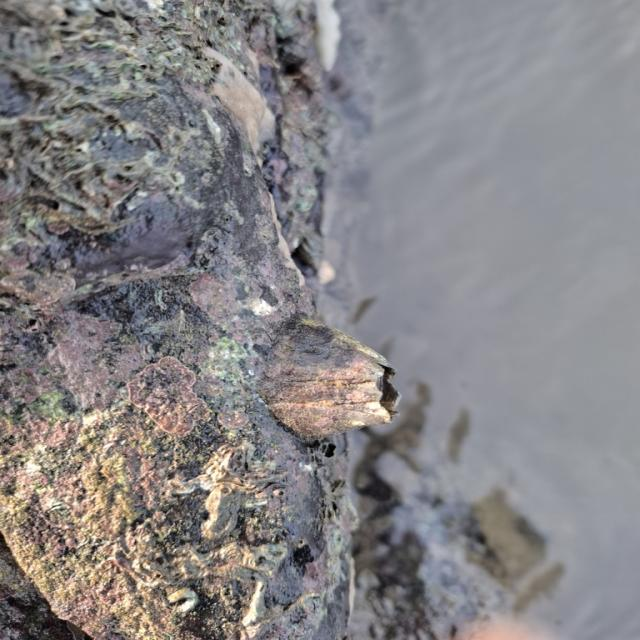barnacles: (234, 302, 459, 447)
